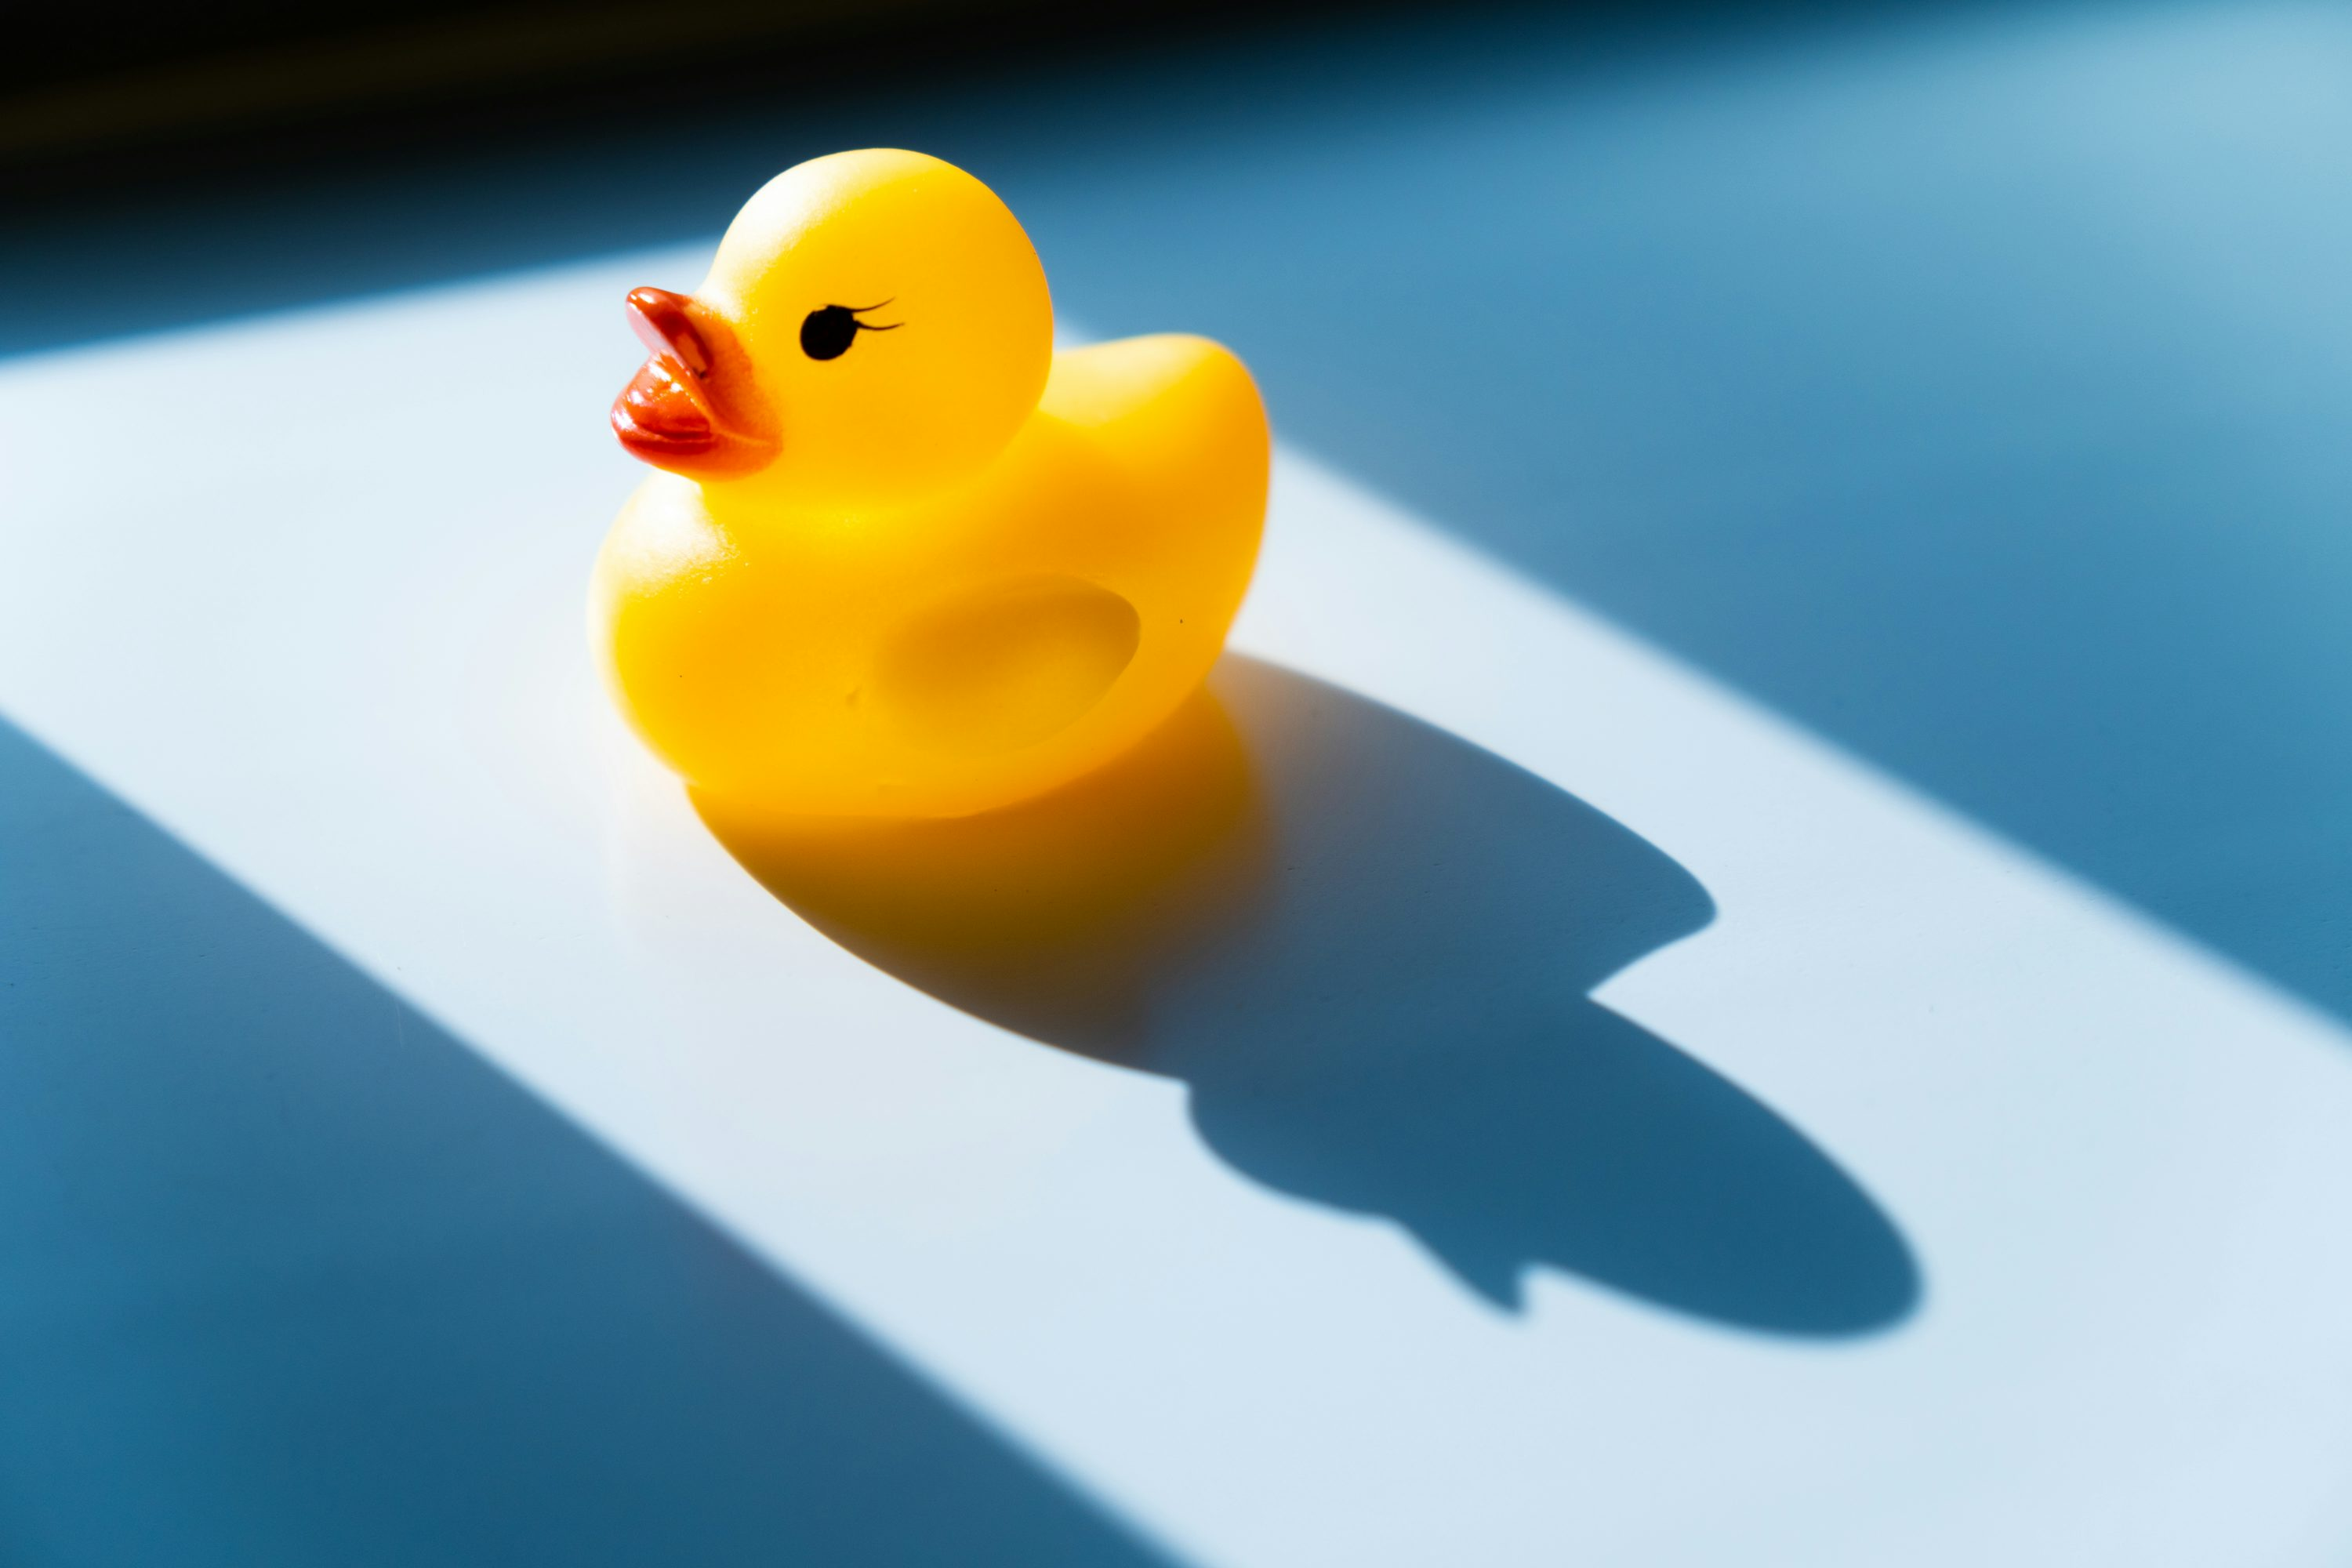duck_regular: (576, 150, 1276, 823)
